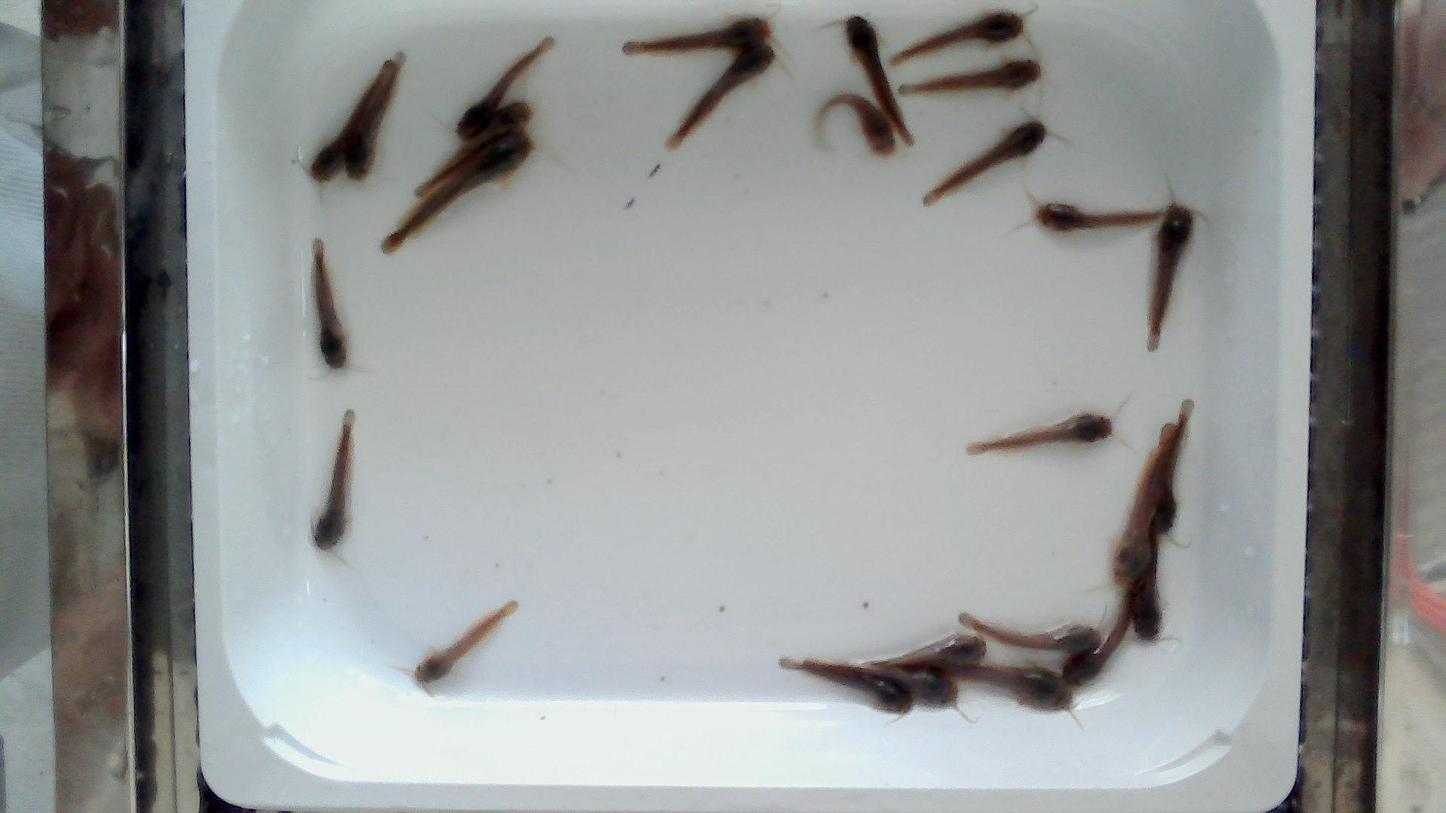lele: (379, 132, 532, 254), (665, 41, 776, 152), (1111, 421, 1178, 589), (875, 658, 1071, 711), (923, 120, 1045, 205), (417, 102, 534, 189), (453, 41, 554, 139), (309, 61, 388, 182), (844, 16, 912, 144), (414, 601, 517, 684), (775, 658, 911, 716), (344, 54, 405, 177), (891, 11, 1023, 63), (1148, 204, 1193, 350), (957, 614, 1100, 658), (967, 413, 1112, 455), (1151, 399, 1194, 533), (1065, 595, 1128, 686), (313, 410, 352, 550), (901, 59, 1041, 95), (624, 17, 771, 51), (816, 93, 895, 155), (313, 239, 346, 368), (863, 634, 988, 667), (1035, 202, 1164, 232), (1127, 533, 1162, 640), (886, 670, 959, 705)
